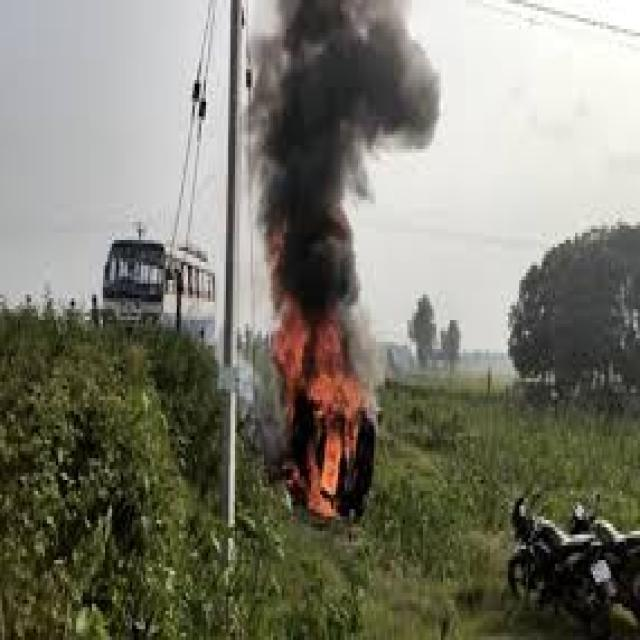Fire: (272, 302, 366, 512)
Smoke: (248, 0, 438, 158), (258, 160, 362, 302)
